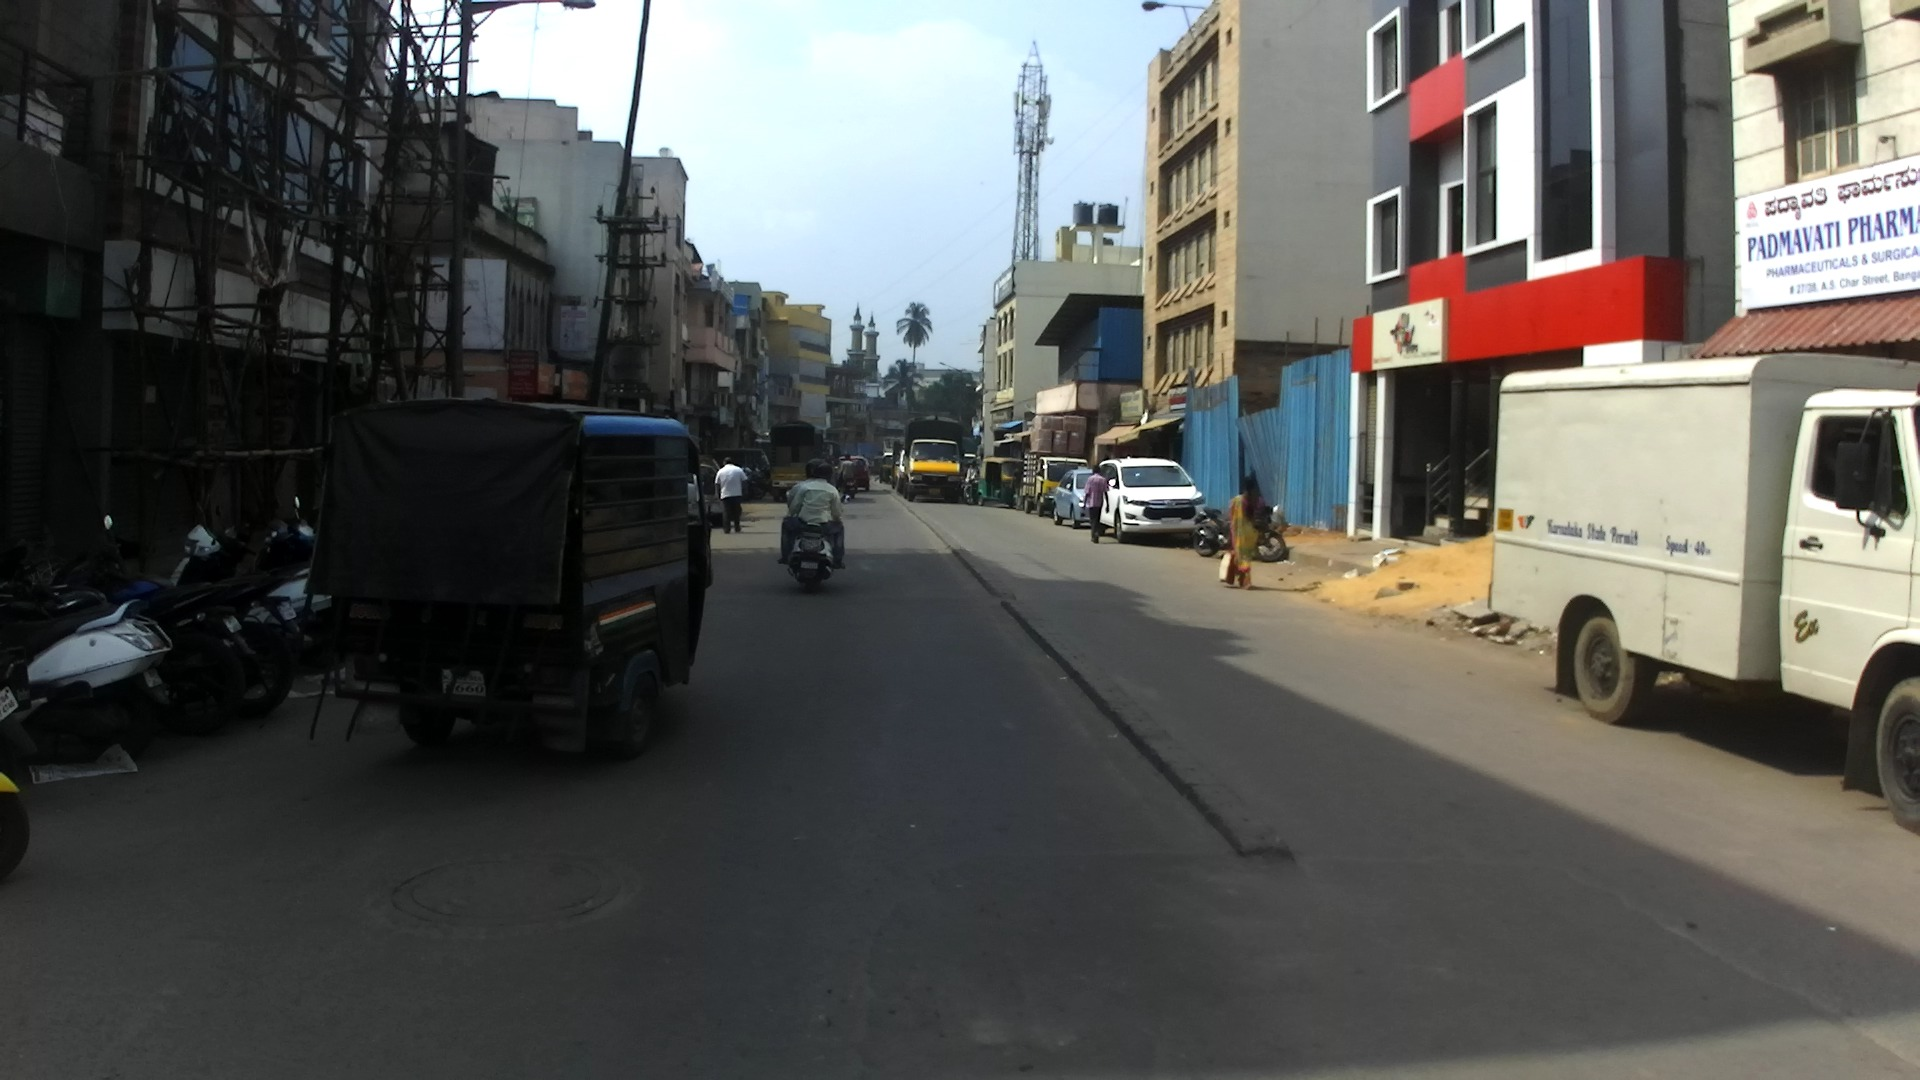autorickshaw: (298, 396, 723, 761), (976, 457, 1024, 508), (879, 452, 893, 484), (874, 456, 883, 478)
car: (1093, 457, 1205, 544), (1052, 469, 1108, 529), (689, 456, 721, 525), (834, 455, 870, 492)
motorcycle: (48, 506, 304, 721), (168, 494, 343, 679), (1, 593, 173, 766), (776, 494, 855, 590), (209, 507, 292, 596), (1, 542, 106, 610), (1193, 502, 1290, 563), (281, 496, 342, 571), (1, 640, 33, 768), (1, 770, 28, 878), (741, 469, 773, 501), (834, 463, 859, 502), (961, 476, 980, 505)
person: (1218, 473, 1261, 589), (714, 454, 745, 536), (1082, 463, 1108, 543)
rider: (774, 465, 846, 567), (787, 460, 833, 538), (837, 452, 853, 484), (966, 460, 977, 484)
truck: (1486, 351, 1920, 836), (1020, 416, 1088, 515), (902, 415, 963, 503), (766, 419, 829, 503), (890, 440, 908, 494)
vehicle fallback: (713, 445, 768, 498), (821, 439, 841, 470), (961, 452, 979, 479)
